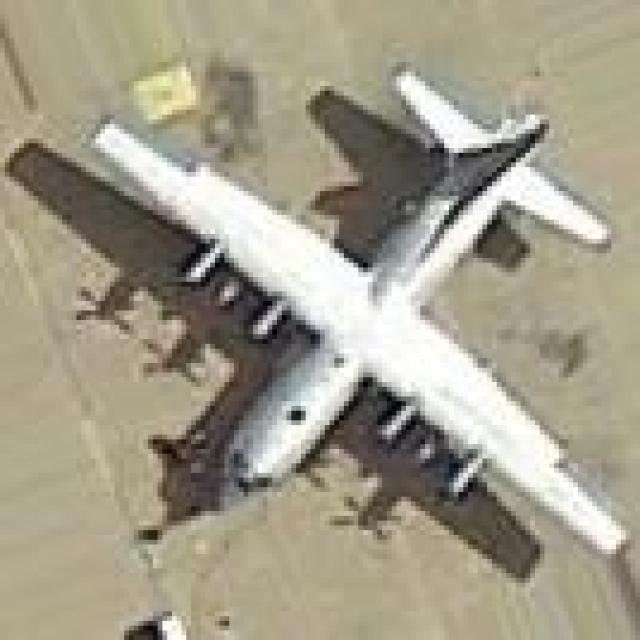C-130_TopDown: (0, 67, 640, 588)
